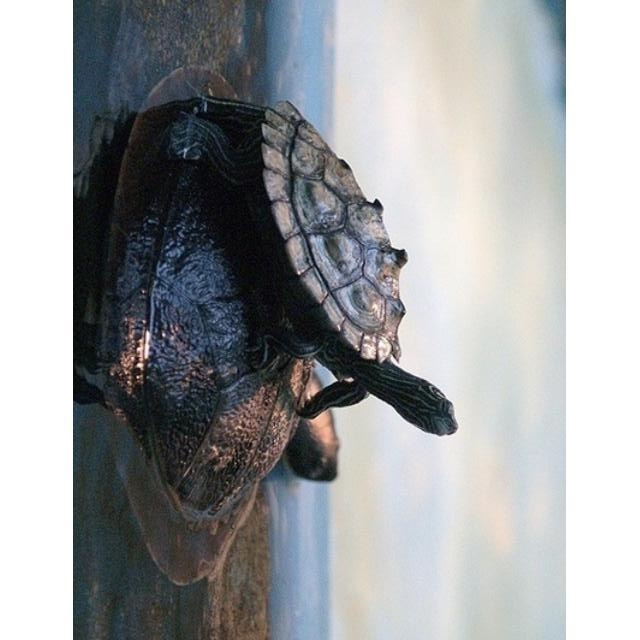turtle: (97, 96, 460, 520)
